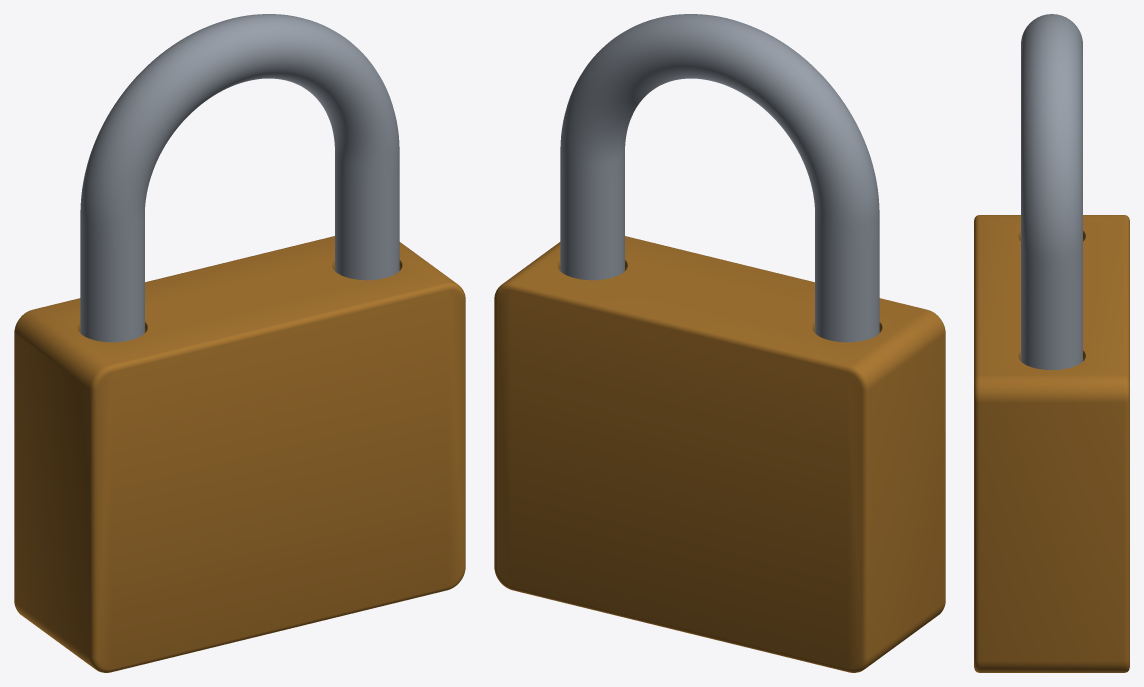
3 renders of one model, left to right at view 1: azimuth 30°, elevation 25°; view 2: azimuth 150°, elevation 25°; view 3: azimuth 270°, elevation 25°, orthographic. The views are drawn at different scales.
Visible parts, largest first — view 1: part_017_Brass_housing, part_000_Steel_shackle; view 2: part_017_Brass_housing, part_000_Steel_shackle; view 3: part_017_Brass_housing, part_000_Steel_shackle.
Part boxes in pixels (x1=…): part_017_Brass_housing: x1=14, y1=236, x2=465, y2=672; part_000_Steel_shackle: x1=80, y1=14, x2=399, y2=342; part_017_Brass_housing: x1=494, y1=236, x2=945, y2=672; part_000_Steel_shackle: x1=560, y1=14, x2=879, y2=342; part_017_Brass_housing: x1=974, y1=215, x2=1129, y2=672; part_000_Steel_shackle: x1=1021, y1=14, x2=1082, y2=369.
Size of the model in its own units: 0.0415 by 0.0617 by 0.0155.
